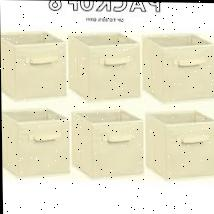cube: (141, 31, 214, 100), (66, 32, 139, 101), (72, 109, 141, 180), (144, 109, 214, 178), (1, 107, 69, 178), (0, 29, 67, 101)
